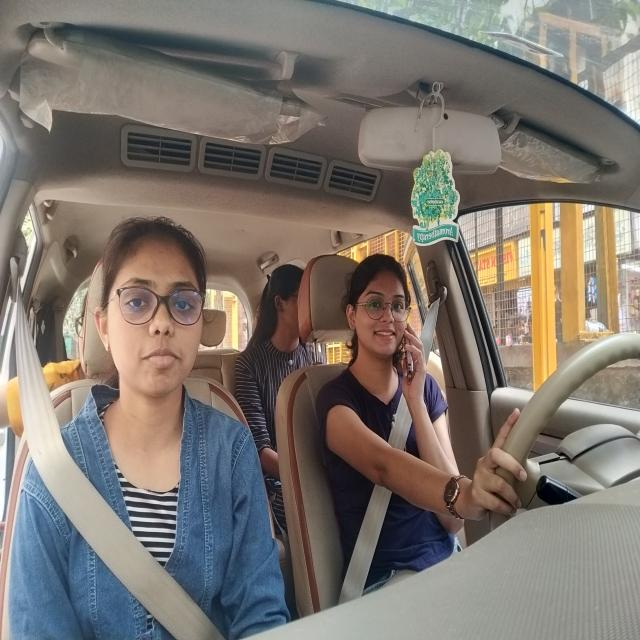mobile: (400, 329, 420, 391)
person: (95, 214, 211, 406), (345, 251, 412, 363), (264, 264, 306, 338), (71, 287, 90, 387)
